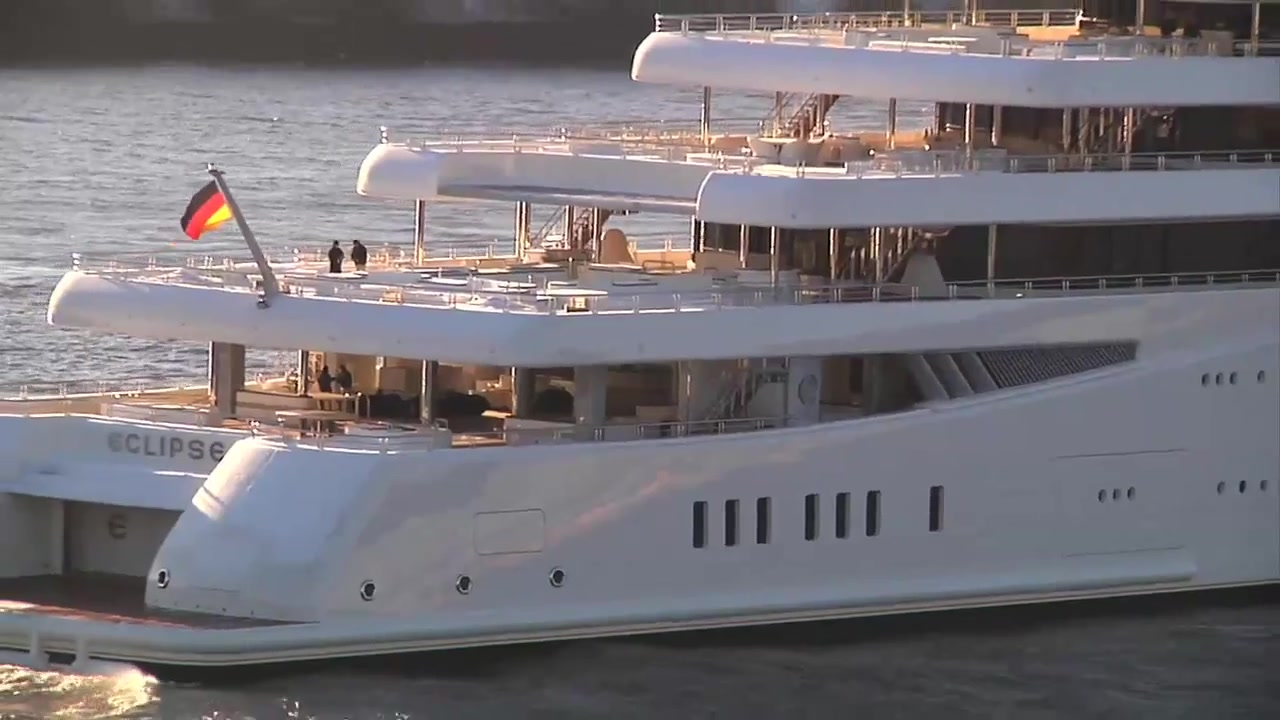boat: (1, 2, 1280, 673)
